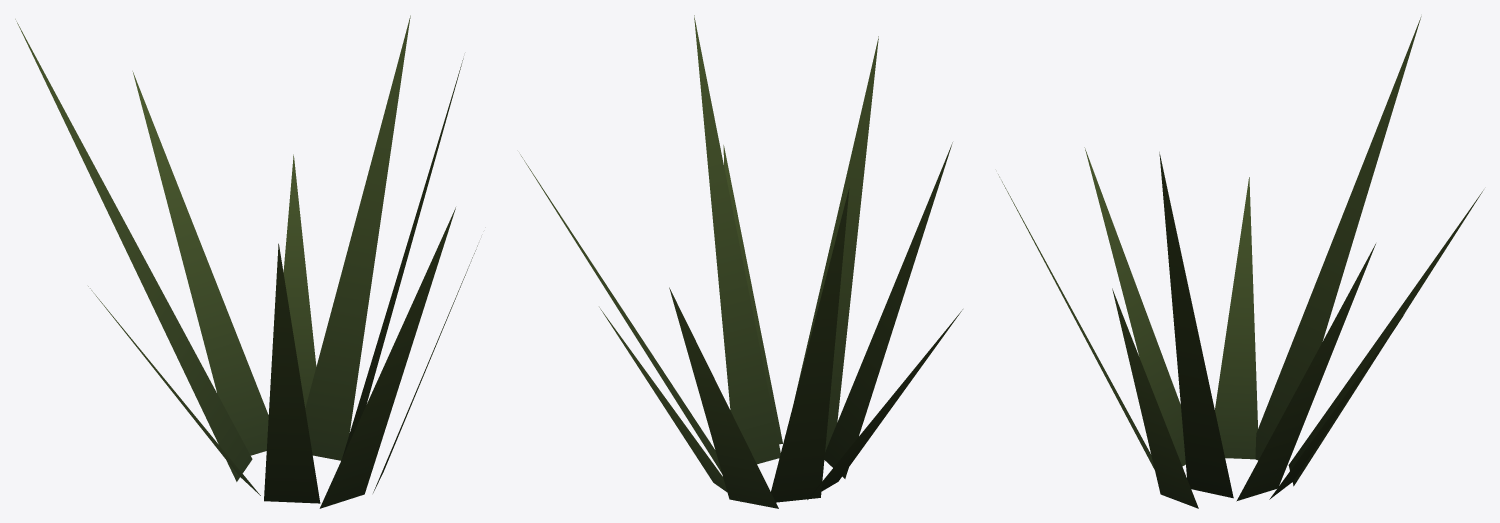
Rendered from grass_clump.glb.
The picture shows the model from 3 angles, left to right: view 1: azimuth 30°, elevation 25°; view 2: azimuth 150°, elevation 25°; view 3: azimuth 270°, elevation 25°; orthographic projection. The views are drawn at different scales.
Parts seen in each view (by area): view 1: grass_clump_needle; view 2: grass_clump_needle; view 3: grass_clump_needle.
Boxes of the visible parts, left/top/right/bottom form: grass_clump_needle: left=15, top=15, right=477, bottom=508; grass_clump_needle: left=520, top=15, right=962, bottom=508; grass_clump_needle: left=998, top=16, right=1483, bottom=508.
Bounding box in the file's own units: 0.5636 × 0.5786 × 0.6694.
